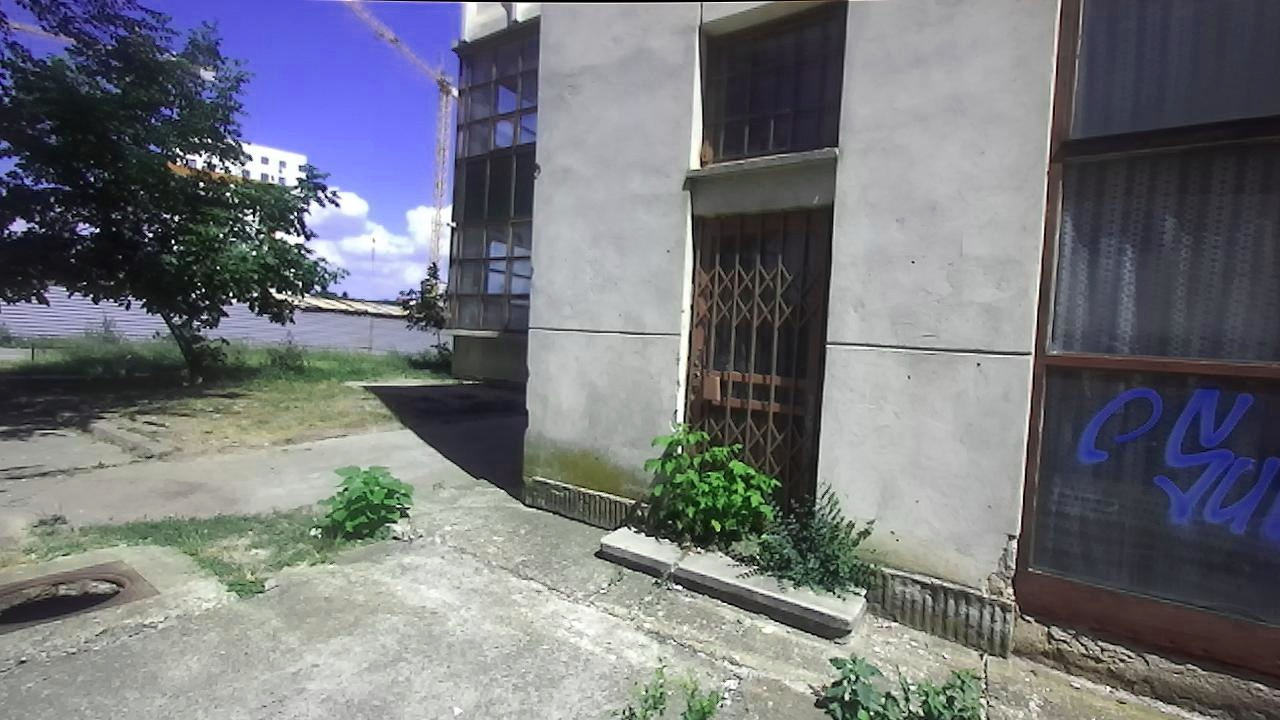drain: (0, 569, 135, 631)
